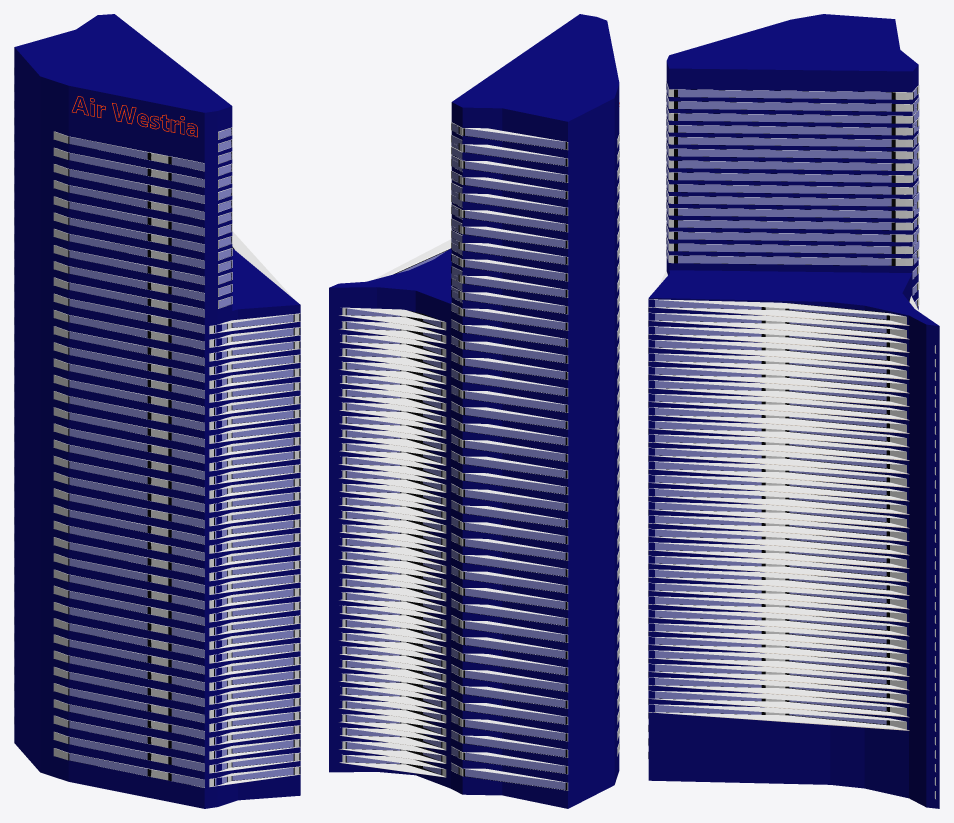
The model's file is HavershamTower.fbx.
The picture shows the model from 3 angles, left to right: view 1: azimuth 30°, elevation 25°; view 2: azimuth 150°, elevation 25°; view 3: azimuth 270°, elevation 25°; orthographic projection.
Parts seen in each view (by area): view 1: HavenshamTower, Window.001, Window.002, Window.004, AIRWESTERIA, Window.003; view 2: HavenshamTower, Window, Window.005, Window.001, Window.004, Window.003; view 3: Window.003, HavenshamTower, Window.004, Window, Window.005.
Part boxes in pixels (<box>): HavenshamTower: <box>14,14,300,808</box>; Window.001: <box>53,131,204,787</box>; Window.002: <box>209,313,300,787</box>; Window.004: <box>218,127,232,308</box>; AIRWESTERIA: <box>72,96,197,137</box>; Window.003: <box>232,231,294,299</box>; HavenshamTower: <box>329,14,619,808</box>; Window: <box>451,122,568,790</box>; Window.005: <box>339,307,446,777</box>; Window.001: <box>617,131,619,756</box>; Window.004: <box>451,123,462,302</box>; Window.003: <box>373,239,451,279</box>; Window.003: <box>648,299,909,730</box>; HavenshamTower: <box>648,14,939,808</box>; Window.004: <box>666,81,919,265</box>; Window: <box>900,49,919,307</box>; Window.005: <box>909,296,935,799</box>.
Bounding box in the file's own units: 5907 × 17068 × 6587.
